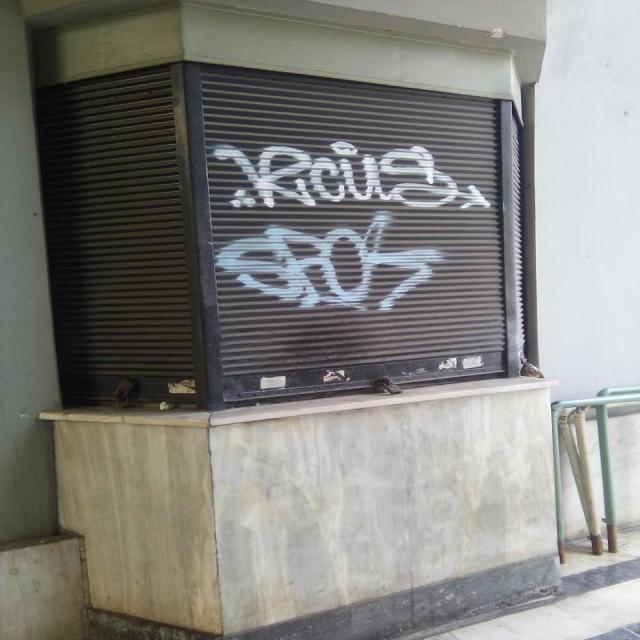nonspitting: (220, 214, 443, 311), (214, 142, 492, 212)
